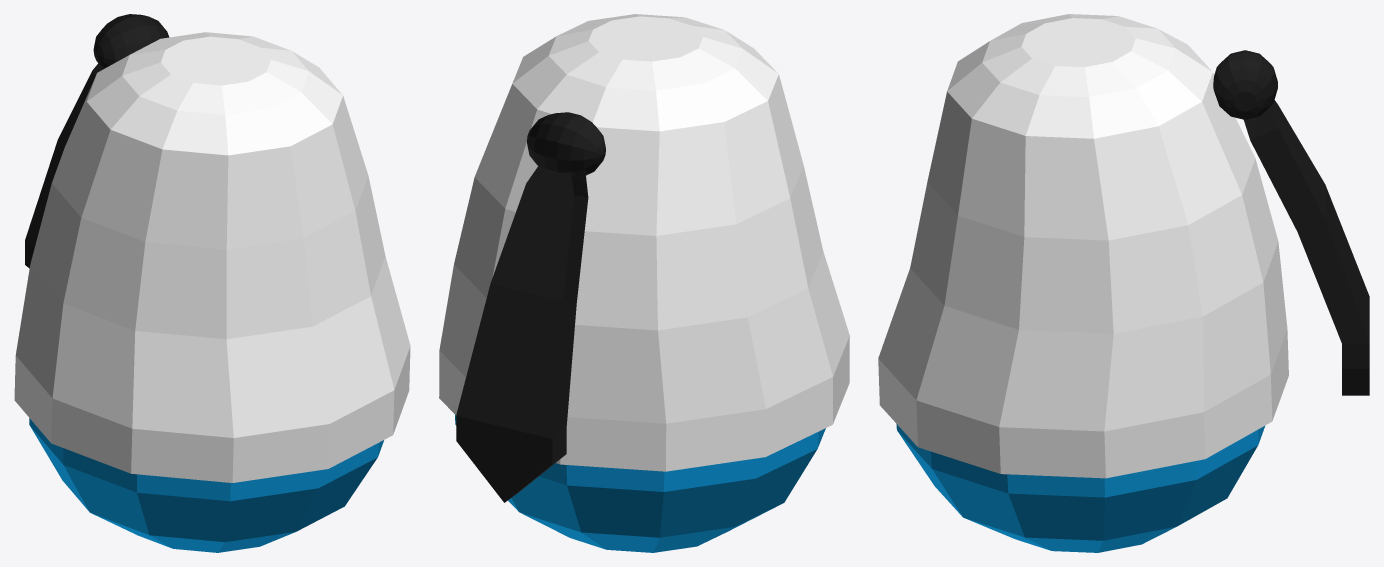
Rendered from Body.FBX.
The picture shows the model from 3 angles, left to right: view 1: azimuth 30°, elevation 25°; view 2: azimuth 150°, elevation 25°; view 3: azimuth 270°, elevation 25°; orthographic projection. The views are drawn at different scales.
Visible parts, largest first — view 1: mesh237443619, mesh1853702316; view 2: mesh237443619, mesh1853702316; view 3: mesh237443619, mesh1853702316.
Part boxes in pixels (bbox=[...]): mesh237443619: bbox=[14, 32, 410, 552]; mesh1853702316: bbox=[25, 14, 169, 268]; mesh237443619: bbox=[439, 14, 849, 552]; mesh1853702316: bbox=[456, 112, 605, 502]; mesh237443619: bbox=[878, 14, 1288, 552]; mesh1853702316: bbox=[1213, 50, 1369, 395].
Bounding box in the file's own units: 45.22 × 59.52 × 54.22.
